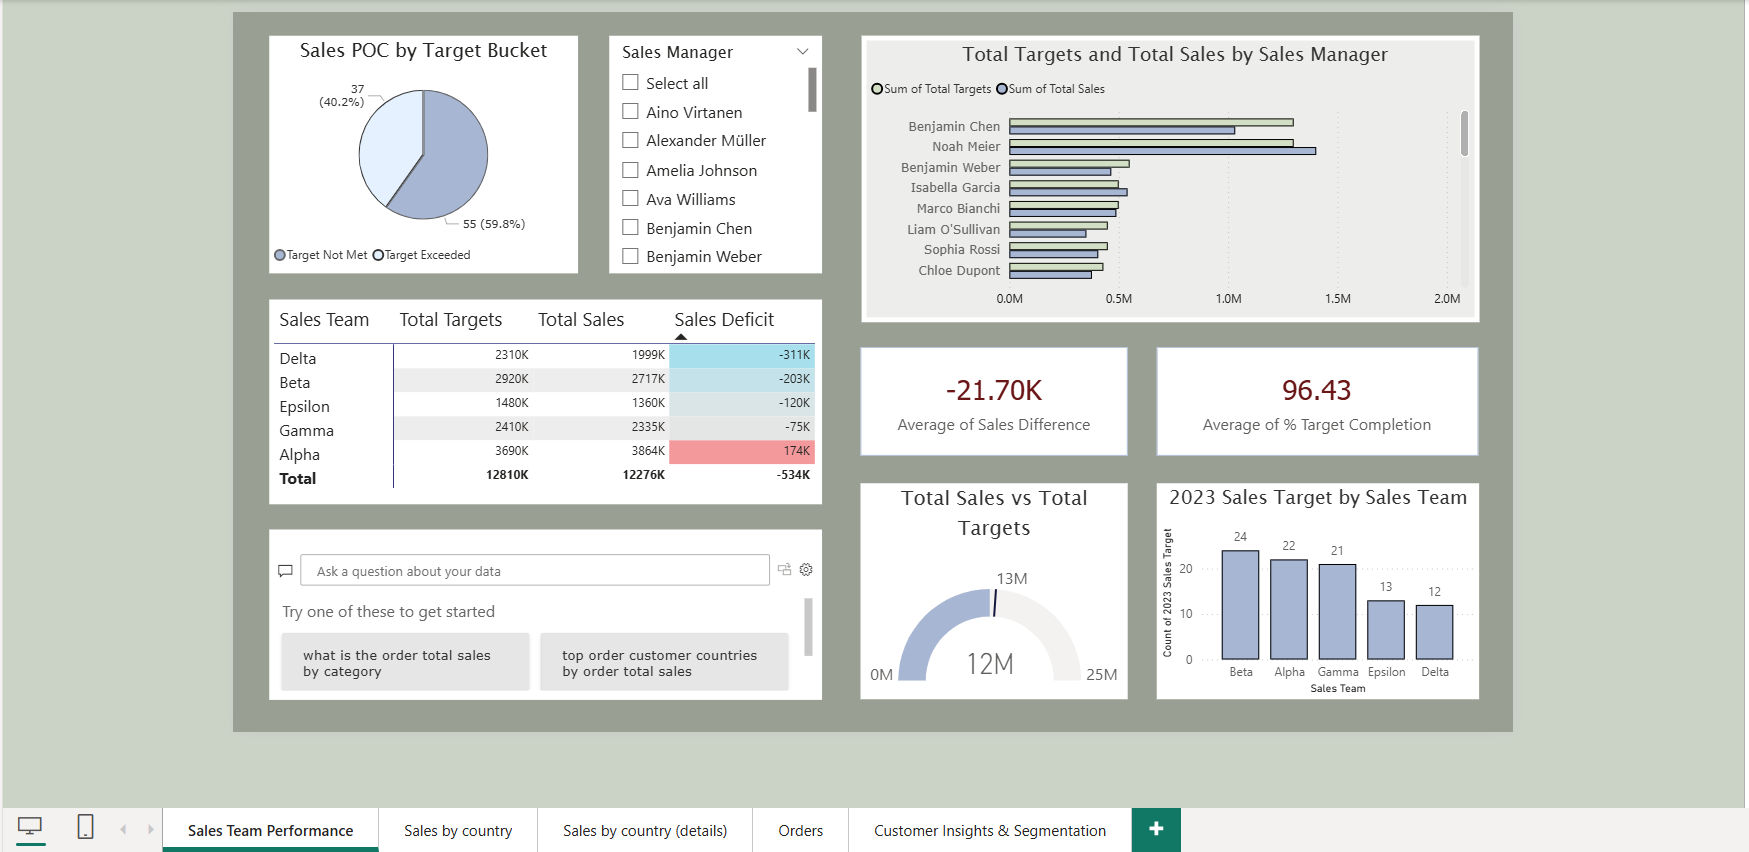

What the dashboard file says about the page in this screenshot:
{"tool":"powerbi","page":{"name":"Sales Team Performance","canvas":[1280,720],"ordinal":0},"visuals":[{"type":"pieChart","title":"Sales POC by Target Bucket","fields":{"Category":["Sales Targets.Target Bucket"],"Y":["CountNonNull(Sales Targets.Sales POC)"]},"box":[36.2,23.8,308.8,237.5],"z":0},{"type":"card","fields":{"Values":["Avg(Sales Targets.Sales Difference)"]},"box":[627.5,335,267.5,108.8],"z":1000},{"type":"slicer","fields":{"Values":["Sales Targets.Sales Difference"]},"box":[672.5,517.5,210,85],"z":2000},{"type":"clusteredColumnChart","title":"2023 Sales Target by Sales Team","fields":{"Category":["Sales Targets.Sales Team"],"Y":["CountNonNull(Sales Targets.2023 Sales Target)"]},"box":[923.8,471.2,322.5,216.2],"z":3000},{"type":"clusteredBarChart","title":"Total Targets and Total Sales by Sales Manager","fields":{"Category":["Sales Manager Target Completion.Sales Manager"],"Y":["Sum(Sales Manager Target Completion.Total Targets)","Sum(Sales Manager Target Completion.Total Sales)"]},"box":[628.8,23.8,617.5,286.2],"z":4000},{"type":"gauge","title":"Total Sales vs Total Targets","fields":{"Y":["Sum(Sales Manager Target Completion.Total Sales)"],"TargetValue":["Sum(Sales Manager Target Completion.Total Targets)"]},"box":[627.5,471.2,267.5,216.2],"z":5000},{"type":"card","fields":{"Values":["Avg(Sales Manager Target Completion.% Target Completion)"]},"box":[923.8,335,321.2,108.8],"z":6000},{"type":"qnaVisual","box":[36.2,517.5,552.5,170],"z":7000},{"type":"pivotTable","fields":{"Values":["Sum(Sales Manager Target Completion.Total Targets)","Sum(Sales Manager Target Completion.Total Sales)","Sum(Sales Manager Target Completion.Sales Difference)"],"Rows":["Sales Manager Target Completion.Sales Team"]},"box":[36.2,287.5,552.5,205],"z":8000},{"type":"slicer","fields":{"Values":["Sales Manager Target Completion.Sales Manager"]},"box":[376.2,23.8,212.5,237.5],"z":9000}]}

Visuals, with their boxes on the page's 1280x720 design canvas (x1, y1, x2, y2). These are canvas units, not pixel positions in the 1749x852 screenshot, which may show the page scaled, cropped or inside an application window:
"Sales POC by Target Bucket" pieChart: [x1=36, y1=24, x2=345, y2=261]
card - Avg(Sales Targets.Sales Difference): [x1=628, y1=335, x2=895, y2=444]
slicer - Sales Targets.Sales Difference: [x1=672, y1=518, x2=882, y2=602]
"2023 Sales Target by Sales Team" clusteredColumnChart: [x1=924, y1=471, x2=1246, y2=687]
"Total Targets and Total Sales by Sales Manager" clusteredBarChart: [x1=629, y1=24, x2=1246, y2=310]
"Total Sales vs Total Targets" gauge: [x1=628, y1=471, x2=895, y2=687]
card - Avg(Sales Manager Target Completion.% Target Completion): [x1=924, y1=335, x2=1245, y2=444]
qnaVisual: [x1=36, y1=518, x2=589, y2=688]
pivotTable - Sum(Sales Manager Target Completion.Total Targets) x Sum(Sales Manager Target Completion.Total Sales): [x1=36, y1=288, x2=589, y2=492]
slicer - Sales Manager Target Completion.Sales Manager: [x1=376, y1=24, x2=589, y2=261]
